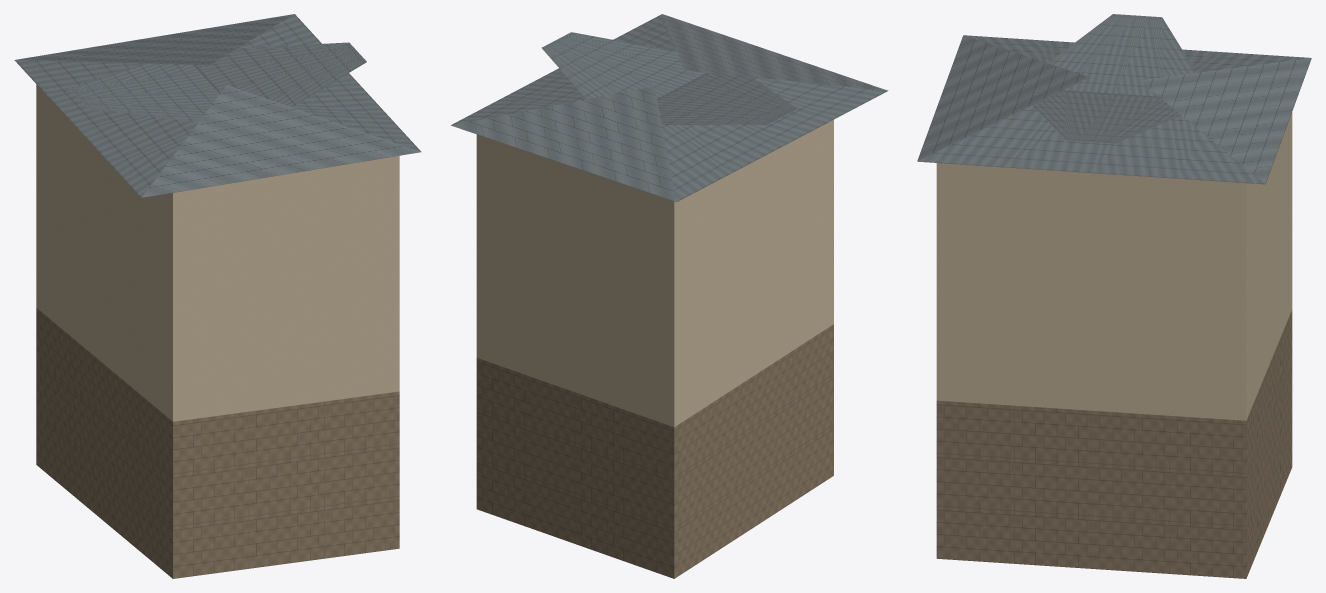
File: bld_c31_-40_469.gltf
3 renders of one model, left to right at view 1: azimuth 30°, elevation 25°; view 2: azimuth 150°, elevation 25°; view 3: azimuth 270°, elevation 25°, orthographic. The views are drawn at different scales.
Visible parts, largest first — view 1: bld_c31_-40_469; view 2: bld_c31_-40_469; view 3: bld_c31_-40_469.
Boxes of the visible parts, x1,y1,x2,y2 form: bld_c31_-40_469: (14, 14, 421, 578); bld_c31_-40_469: (451, 14, 888, 578); bld_c31_-40_469: (917, 14, 1311, 578).
Size of the model in its own units: 10.32 by 14 by 11.54.
3 materials, 3 textured.
